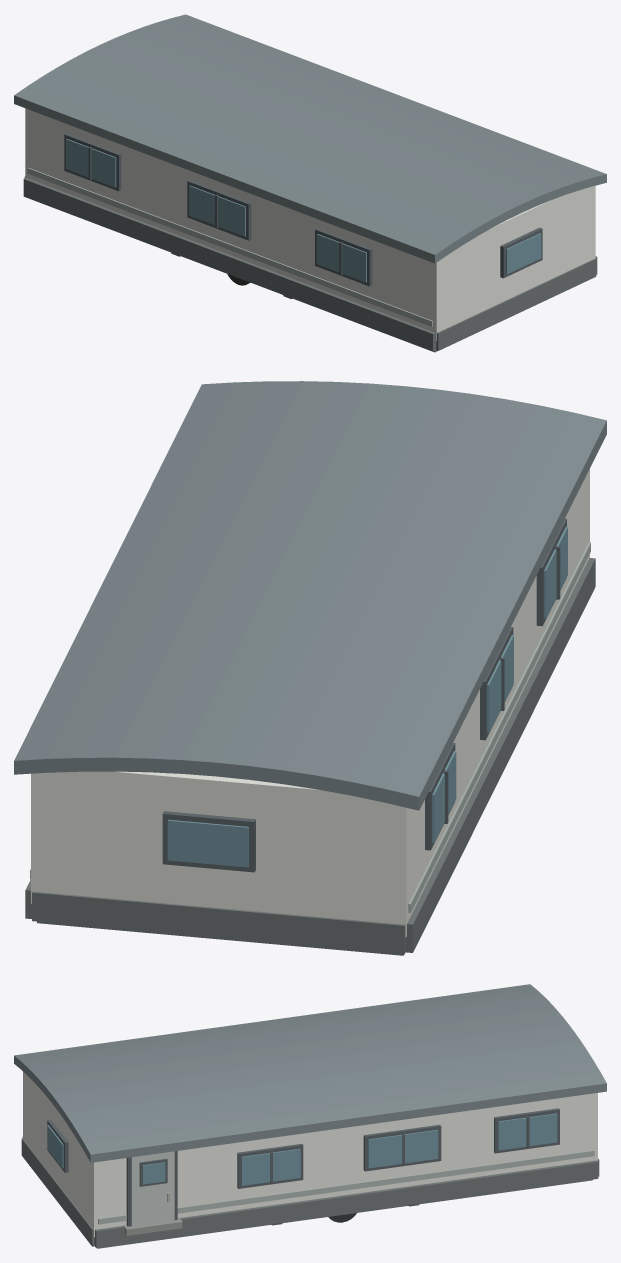
The picture shows the model from 3 angles, top to bottom: view 1: azimuth 30°, elevation 25°; view 2: azimuth 150°, elevation 25°; view 3: azimuth 270°, elevation 25°; orthographic projection. The views are drawn at different scales.
Visible parts, largest first — view 1: shallow_crowned_roof, main_caravan_body, lower_side_skirt_negative, lower_end_skirt_positive, side_stripe_negative, negative_side_window_2_glass, negative_side_window_3_glass, negative_side_window_1_glass, front_end_window_glass, negative_side_window_2_frame, negative_side_window_3_frame, negative_side_window_1_frame (+1 smaller); view 2: shallow_crowned_roof, main_caravan_body, lower_end_skirt_negative, lower_side_skirt_negative, rear_end_window_glass, side_stripe_negative, rear_end_window_frame, negative_side_window_2_glass, negative_side_window_1_glass, negative_side_window_3_glass, underframe_main, negative_side_window_2_frame (+1 smaller); view 3: shallow_crowned_roof, main_caravan_body, lower_side_skirt_positive, side_stripe_positive, entrance_door_panel, positive_side_window_2_glass, positive_side_window_3_glass, positive_side_window_1_glass, lower_end_skirt_positive, positive_side_window_2_frame, positive_side_window_3_frame, positive_side_window_1_frame (+6 smaller).
Boxes of the visible parts, <box> form: shallow_crowned_roof: <box>14,14,606,263</box>; main_caravan_body: <box>25,108,595,340</box>; lower_side_skirt_negative: <box>23,177,436,351</box>; lower_end_skirt_positive: <box>436,258,596,350</box>; side_stripe_negative: <box>27,167,432,326</box>; negative_side_window_2_glass: <box>189,185,245,236</box>; negative_side_window_3_glass: <box>316,234,366,282</box>; negative_side_window_1_glass: <box>66,139,116,187</box>; front_end_window_glass: <box>506,233,541,274</box>; negative_side_window_2_frame: <box>187,180,251,240</box>; negative_side_window_3_frame: <box>315,228,372,286</box>; negative_side_window_1_frame: <box>64,133,121,191</box>; shallow_crowned_roof: <box>14,381,606,810</box>; main_caravan_body: <box>31,469,589,937</box>; lower_end_skirt_negative: <box>32,891,405,954</box>; lower_side_skirt_negative: <box>405,558,595,952</box>; rear_end_window_glass: <box>167,819,248,867</box>; side_stripe_negative: <box>408,542,590,912</box>; rear_end_window_frame: <box>162,811,255,872</box>; negative_side_window_2_glass: <box>487,635,513,732</box>; negative_side_window_1_glass: <box>432,751,456,842</box>; negative_side_window_3_glass: <box>544,526,567,618</box>; underframe_main: <box>37,921,404,955</box>; negative_side_window_2_frame: <box>480,627,513,740</box>; shallow_crowned_roof: <box>14,984,606,1162</box>; main_caravan_body: <box>23,1072,597,1237</box>; lower_side_skirt_positive: <box>94,1160,598,1248</box>; side_stripe_positive: <box>98,1150,594,1224</box>; entrance_door_panel: <box>131,1151,174,1226</box>; positive_side_window_2_glass: <box>368,1129,438,1168</box>; positive_side_window_3_glass: <box>241,1149,300,1185</box>; positive_side_window_1_glass: <box>498,1113,557,1150</box>; lower_end_skirt_positive: <box>21,1138,94,1246</box>; positive_side_window_2_frame: <box>363,1124,441,1171</box>; positive_side_window_3_frame: <box>237,1143,303,1188</box>; positive_side_window_1_frame: <box>494,1108,559,1153</box>.
Bounding box in the file's own units: 7.55 × 2.5 × 11.09.
